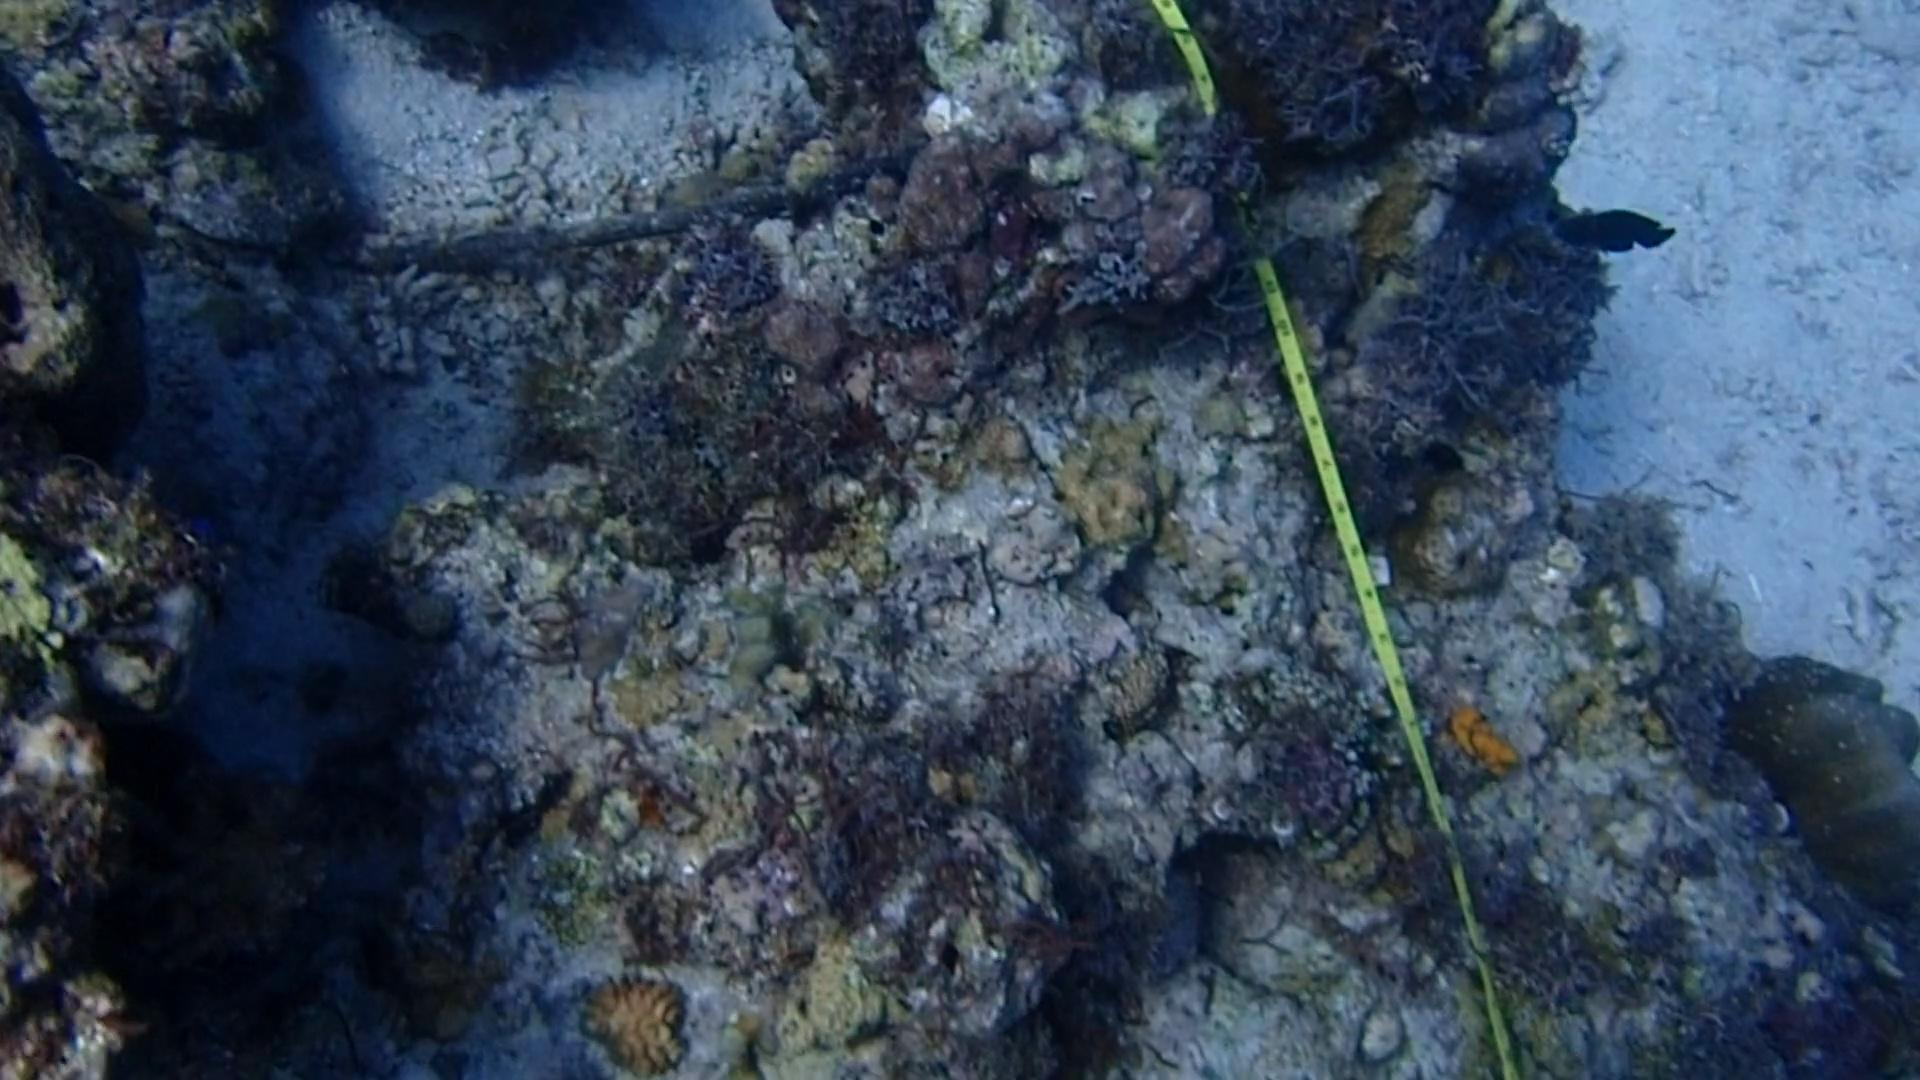Dark Fish: (1545, 195, 1689, 272)
